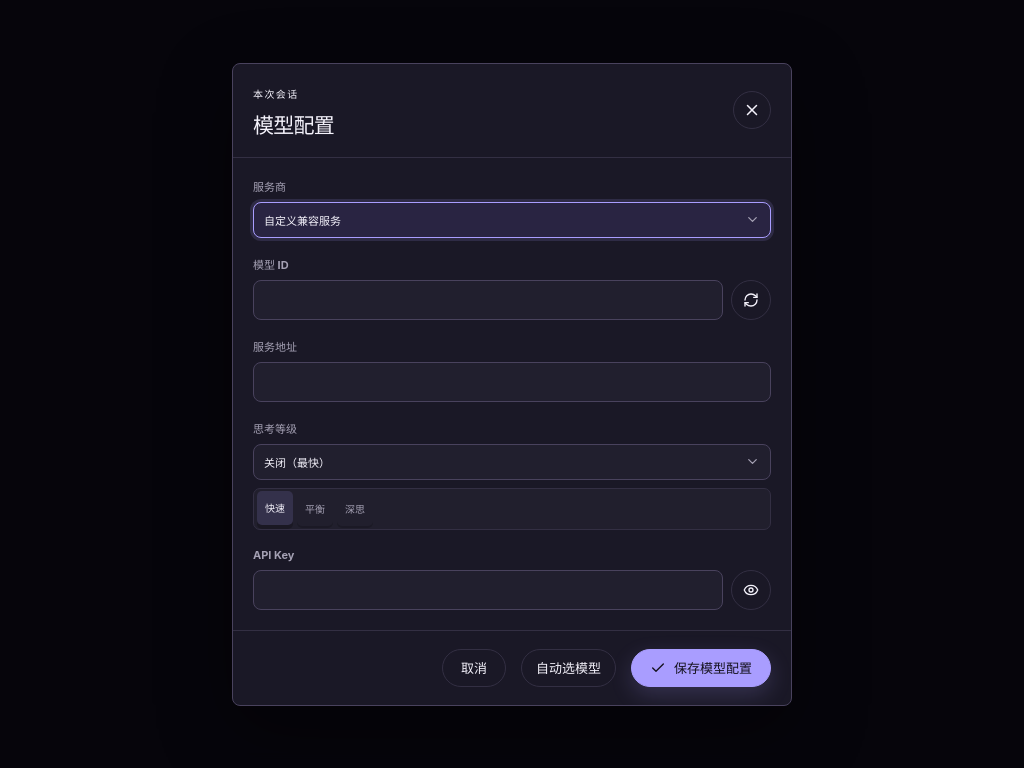
Test: ProviderDialog › keeps manual input and explains an invalid API prefix
The image size is (1024, 768).
Type "https://models.example.test" into the field labelled "服务地址" at (512, 382), box [253,362,771,402]
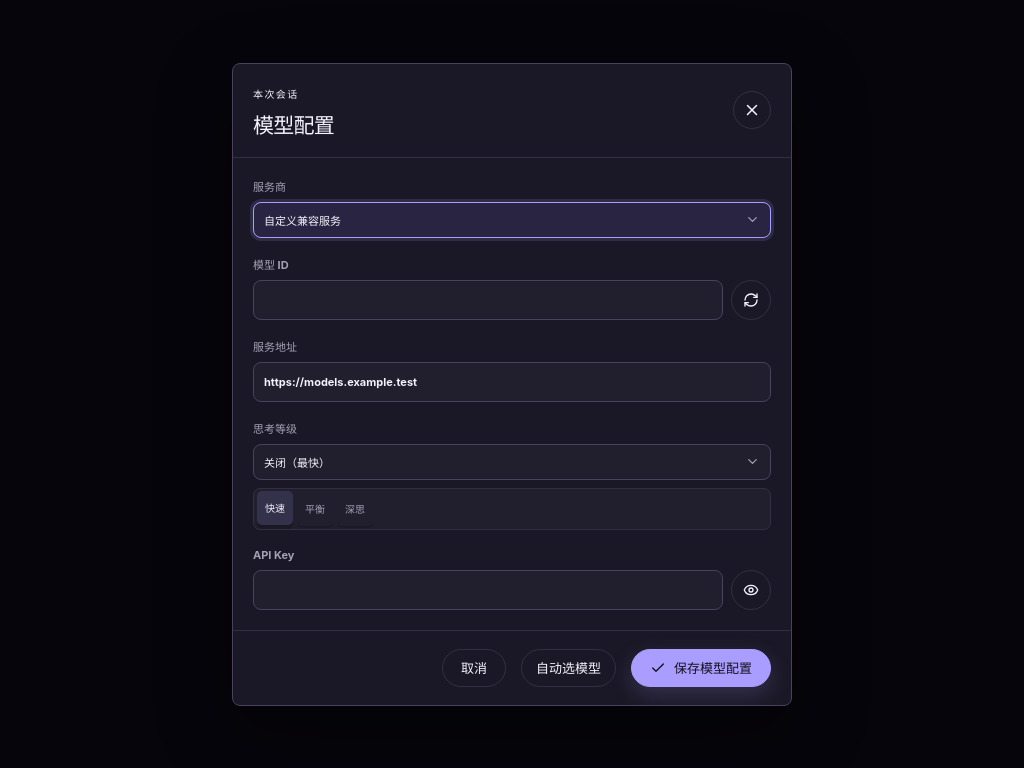
Type "manual-model" into the field labelled "模型 ID" at (488, 300), box [253,280,723,320]
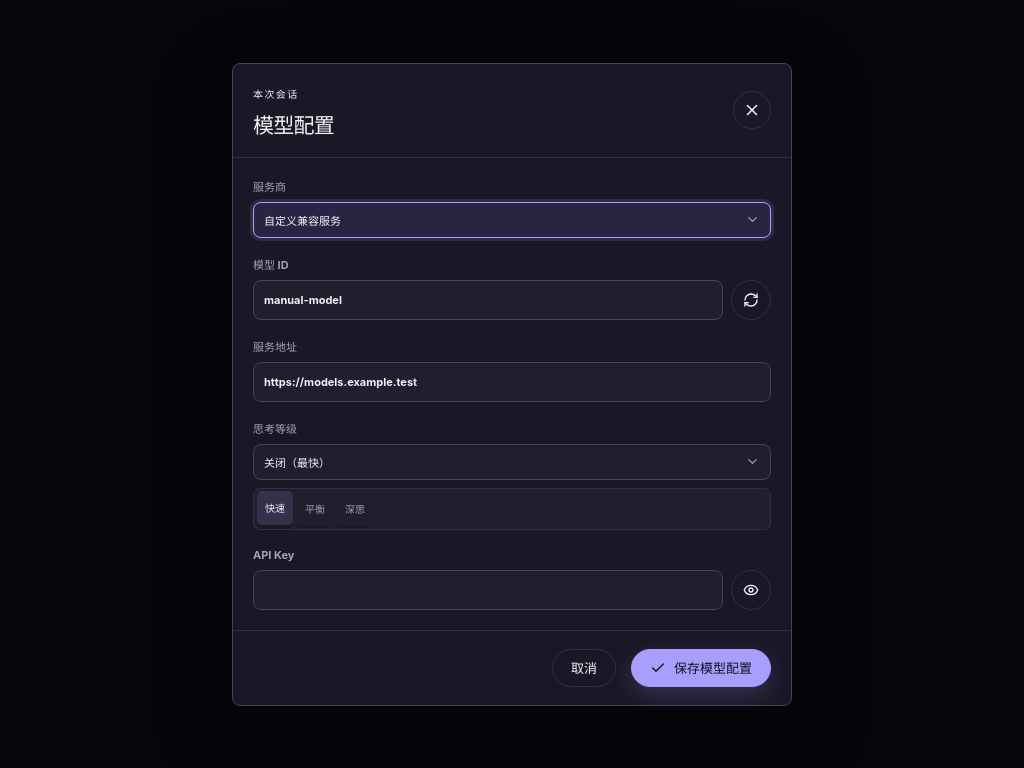
Click the button named "拉取模型列表" at (751, 300), box [731,280,771,320]
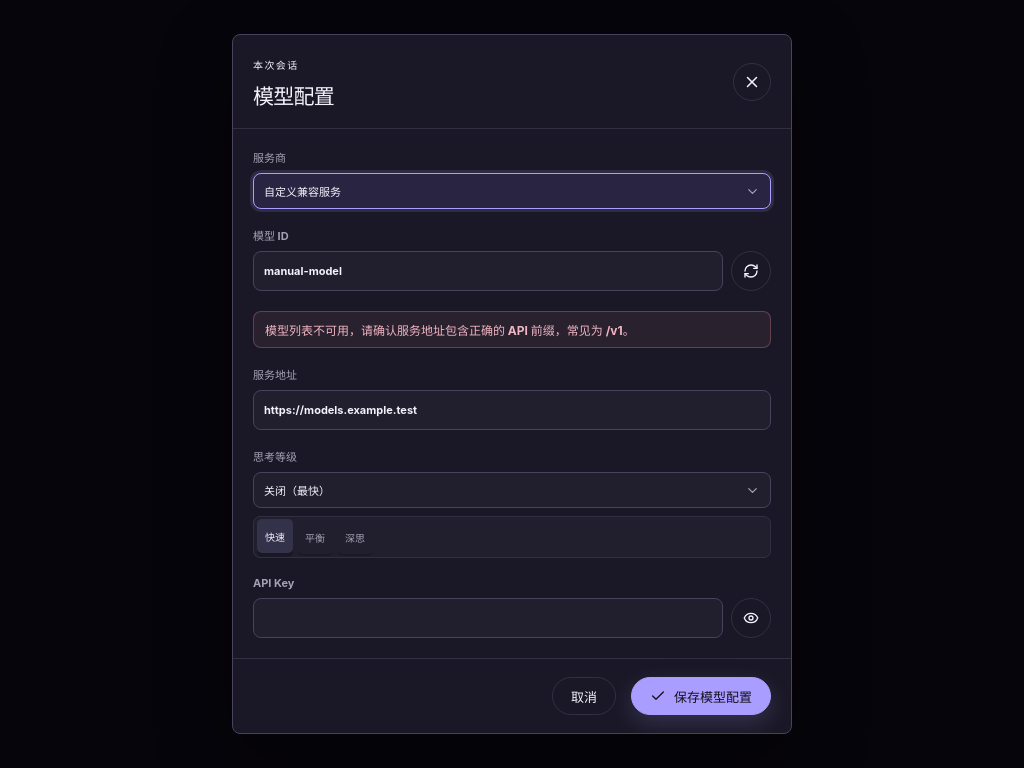
Expected: the message shows "/v1", [265,323,635,338]
